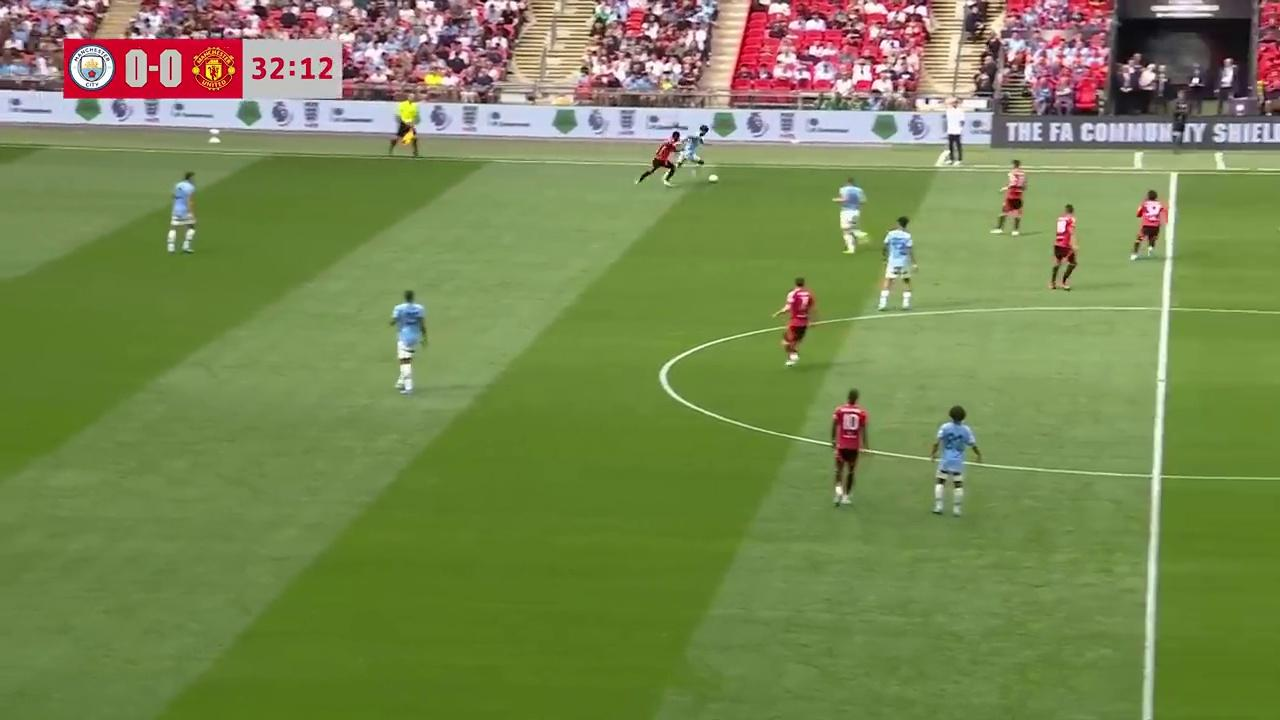ball: (704, 170, 720, 184)
player: (928, 405, 983, 517), (830, 389, 869, 508), (389, 289, 428, 396), (876, 216, 917, 311), (775, 276, 816, 366), (1130, 189, 1167, 262), (991, 159, 1026, 236), (833, 176, 867, 253), (166, 171, 197, 254), (1049, 204, 1077, 291), (636, 130, 677, 187), (674, 127, 707, 172)
referee: (390, 97, 420, 158)
